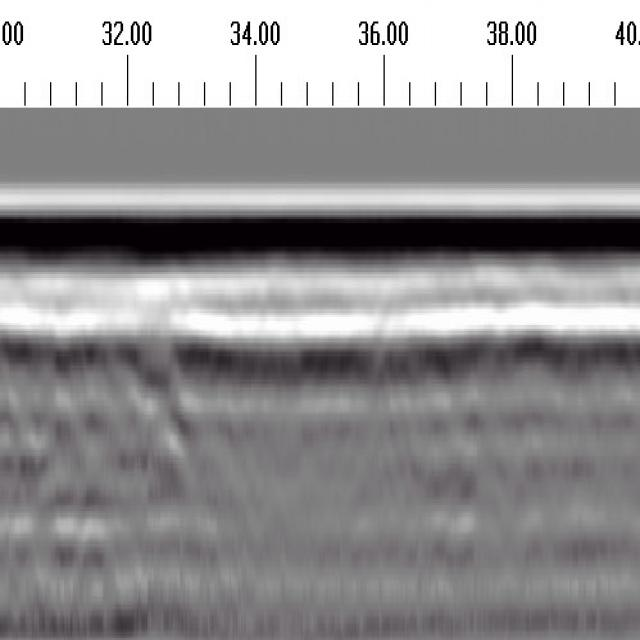loose: (4, 375, 194, 631)
